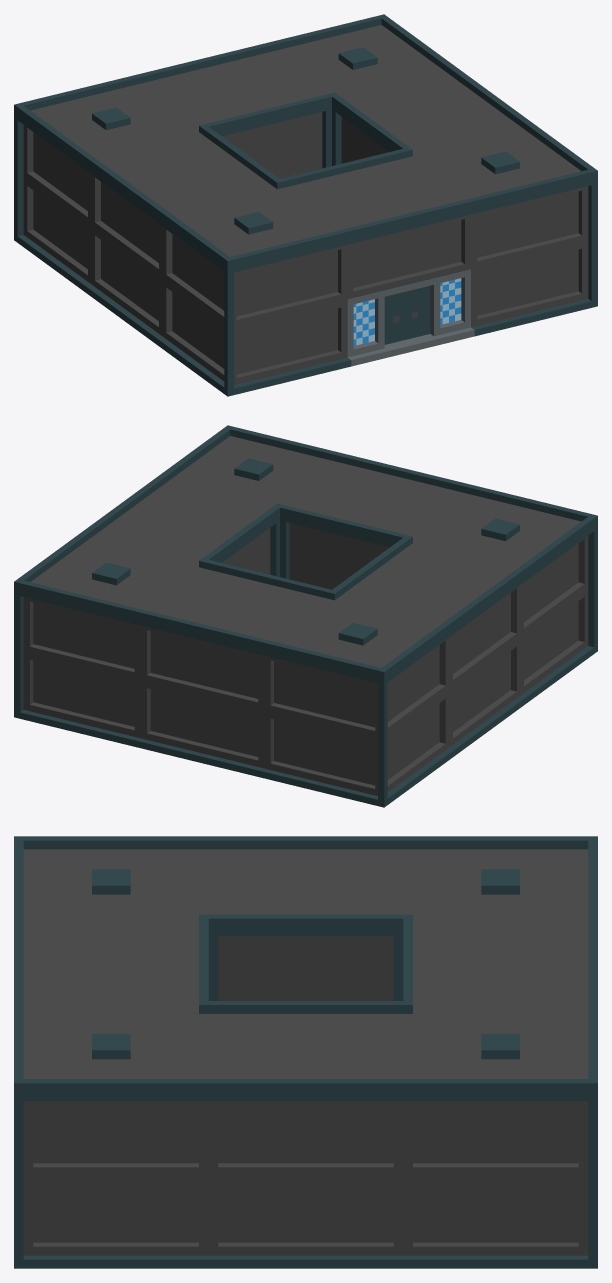
File: headquarters.obj
3 renders of one model, top to bottom at view 1: azimuth 30°, elevation 25°; view 2: azimuth 150°, elevation 25°; view 3: azimuth 270°, elevation 25°, orthographic. The views are drawn at different scales.
Bounding box in the file's own units: 6 × 2.1 × 6.
1 material, 1 textured.
